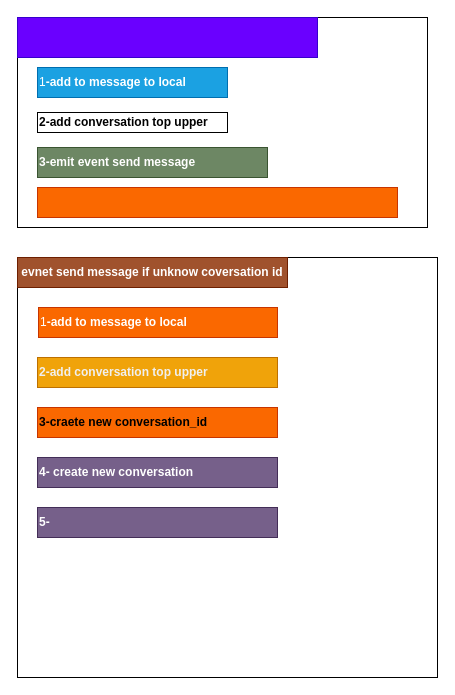
Some shapes in this 455 by 695 pixel diagram are drawn without their labels. Here are the shapes that lost their labels. From the top down, the box of each, then its label:
(16, 16, 318, 58): evnet send message if know coversation id
(36, 186, 398, 218): 4- replace old message by new message and call cb()
